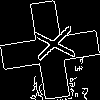X: (25, 25, 75, 65)
